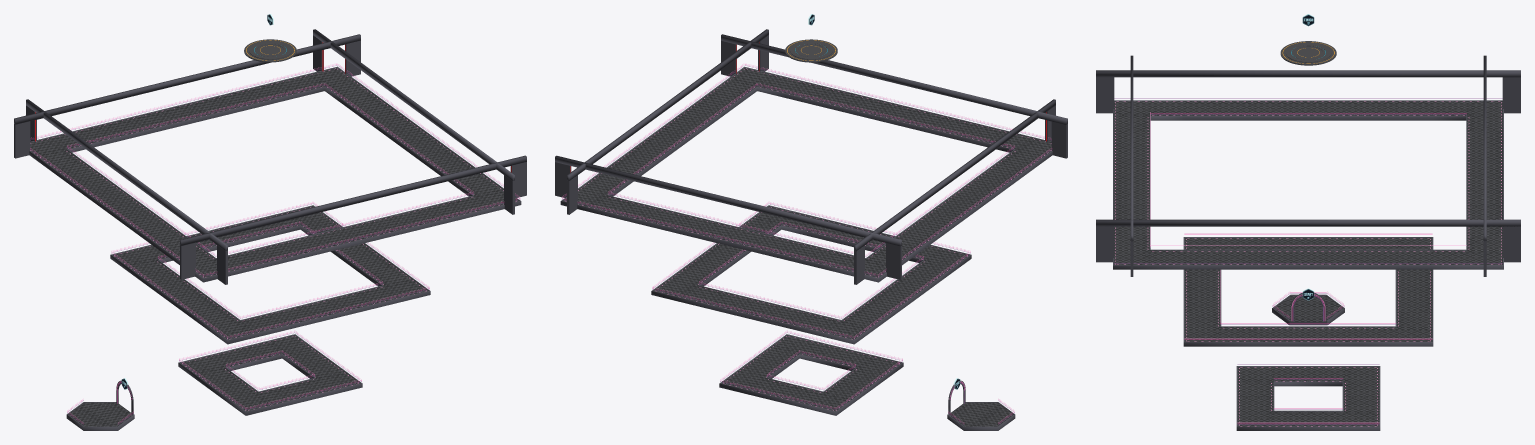
The model's file is map10.glb.
3 renders of one model, left to right at view 1: azimuth 30°, elevation 25°; view 2: azimuth 150°, elevation 25°; view 3: azimuth 270°, elevation 25°, orthographic. The views are drawn at different scales.
Visible parts, largest first — view 1: Cube.018, Cube.019, Platform1_4.045, Platform1_4.043, Platform1_4.042, Platform1_4.048, Platform1_4.046, Platform1_4.047, Platform1_4.038, StartArea.007, Platform1_4.037, Cube.016 (+43 smaller); view 2: Cube.019, Cube.018, Platform1_4.046, Platform1_4.044, Platform1_4.047, Platform1_4.041, Platform1_4.045, Platform1_4.048, Platform1_4.037, StartArea.007, Platform1_4.038, Cube.016 (+43 smaller); view 3: Cube.016, Cube.017, Platform1_4.042, Platform1_4.048, Platform1_4.041, Platform1_4.047, StartArea.007, Platform1_4.045, Platform1_4.046, Platform1_4.037, Platform1_4.038, Platform1_4.040 (+48 smaller).
Boxes of the visible parts, x1,y1,x2,y2 form: Cube.018: (180,155,526,245); Cube.019: (14,34,360,124); Platform1_4.045: (212,377,304,415); Platform1_4.043: (194,305,285,344); Platform1_4.042: (355,263,430,308); Platform1_4.048: (287,355,362,401); Platform1_4.046: (178,345,254,390); Platform1_4.047: (237,330,328,369); Platform1_4.038: (280,63,370,102); StartArea.007: (66,378,134,430); Platform1_4.037: (445,173,521,218); Cube.016: (313,29,514,180); Cube.019: (555,155,901,246); Cube.018: (721,34,1067,124); Platform1_4.046: (777,377,869,415); Platform1_4.044: (796,305,887,344); Platform1_4.047: (719,355,794,401); Platform1_4.041: (651,263,726,308); Platform1_4.045: (827,345,903,390); Platform1_4.048: (753,330,844,369); Platform1_4.037: (711,64,802,102); StartArea.007: (947,378,1015,430); Platform1_4.038: (560,173,636,218); Cube.016: (567,29,768,180); Cube.016: (1096,219,1520,226); Cube.017: (1096,70,1520,77); Platform1_4.042: (1183,308,1255,346); Platform1_4.048: (1236,396,1308,430); Platform1_4.041: (1361,312,1433,346); Platform1_4.047: (1308,396,1380,430); StartArea.007: (1272,288,1344,325); Platform1_4.045: (1236,364,1308,396); Platform1_4.046: (1308,364,1380,396); Platform1_4.037: (1113,231,1184,269); Platform1_4.038: (1432,235,1503,269); Platform1_4.040: (1113,98,1184,130).
Size of what is drawn, in the model's own units: 76.9 by 72.42 by 72.19.
Materials: 18 (18 with a texture image).
